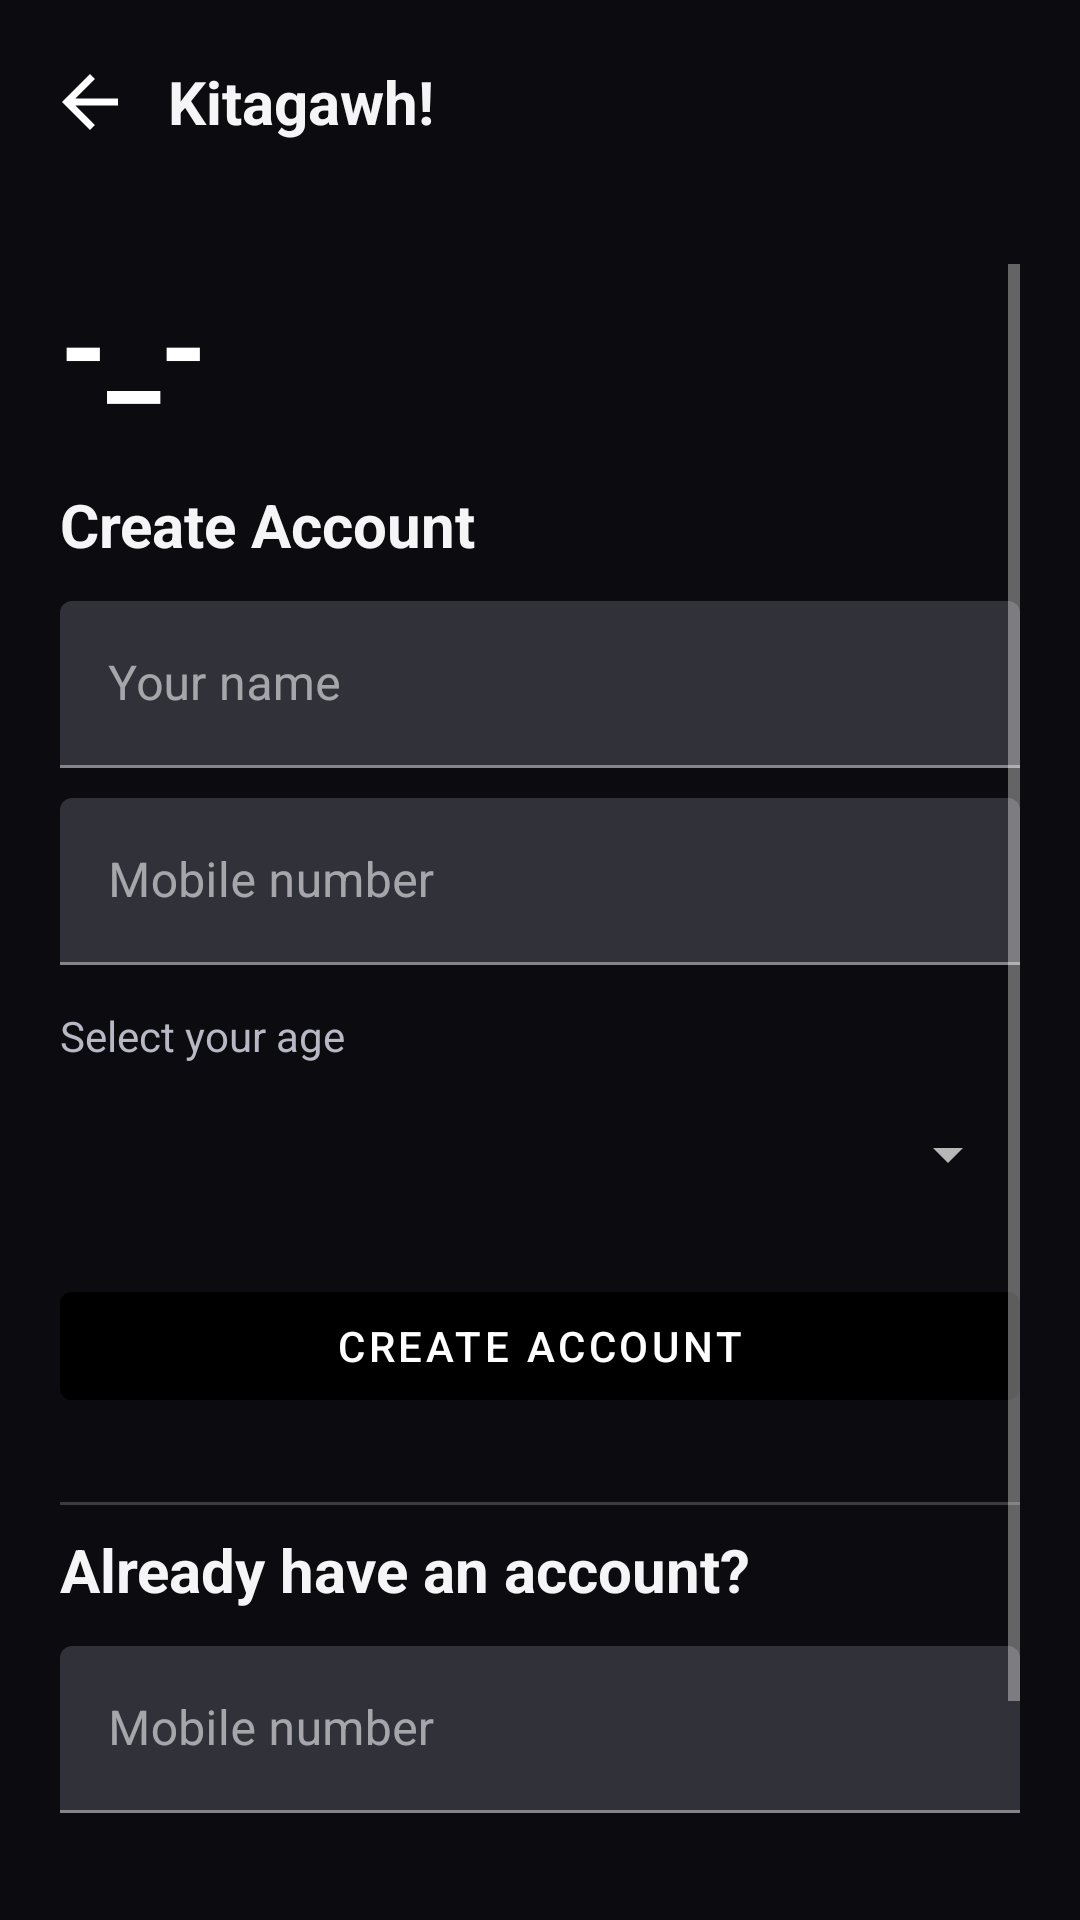

Icons on this 1080w x 1920h Android screen, each with its box as (x1, y1, x2, y2):
Back: (62, 74, 118, 130)
